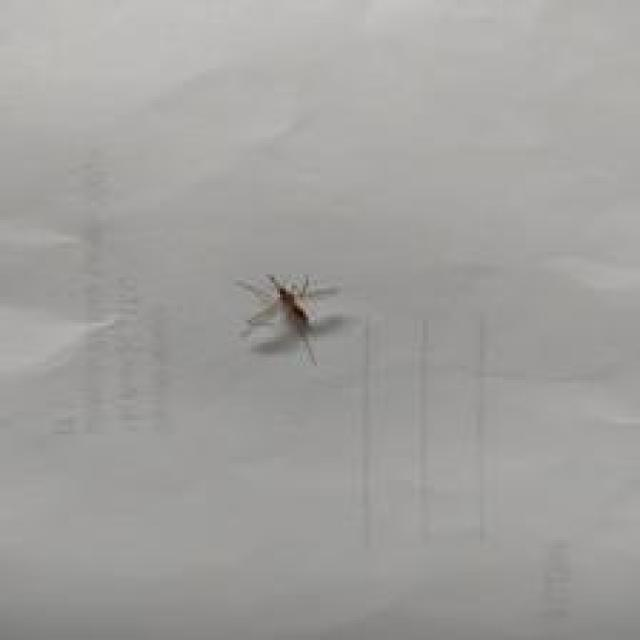Culex: (235, 271, 338, 366)
